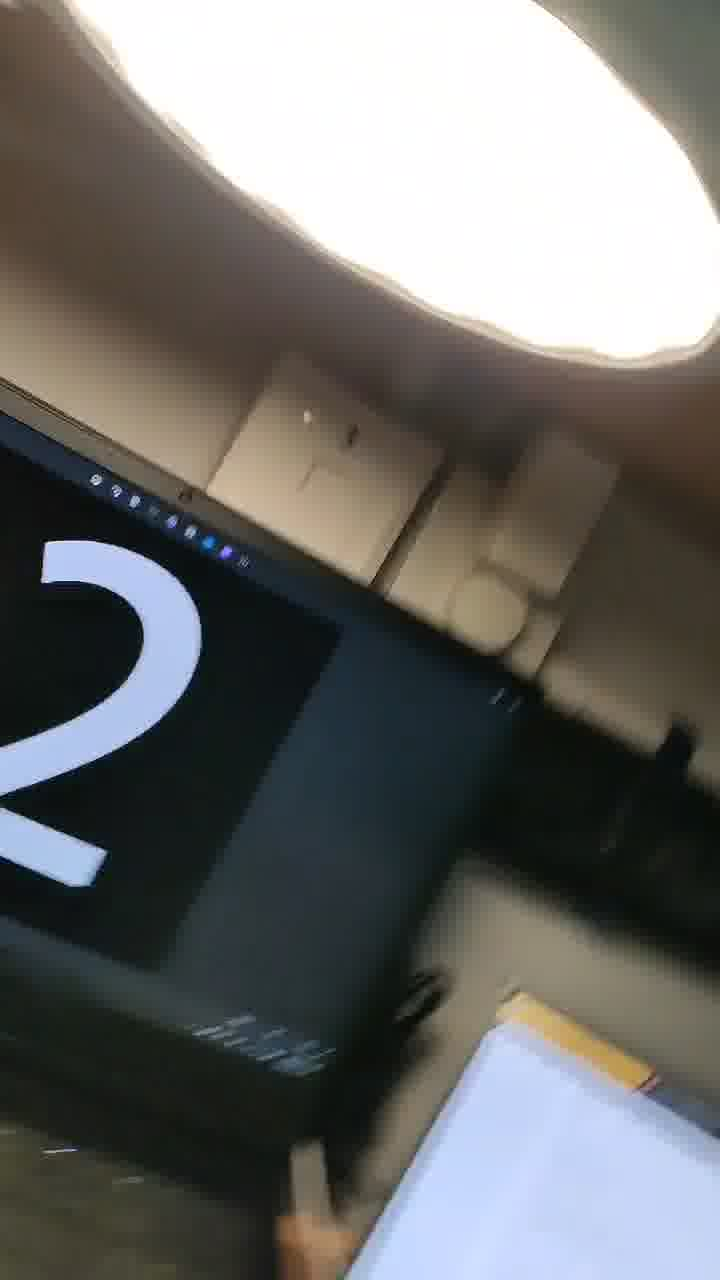two: (42, 525, 275, 942)
